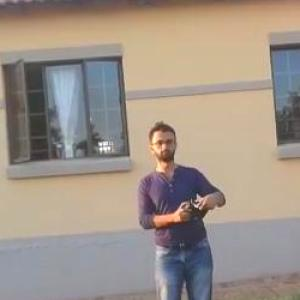follow: (128, 113, 234, 299)
